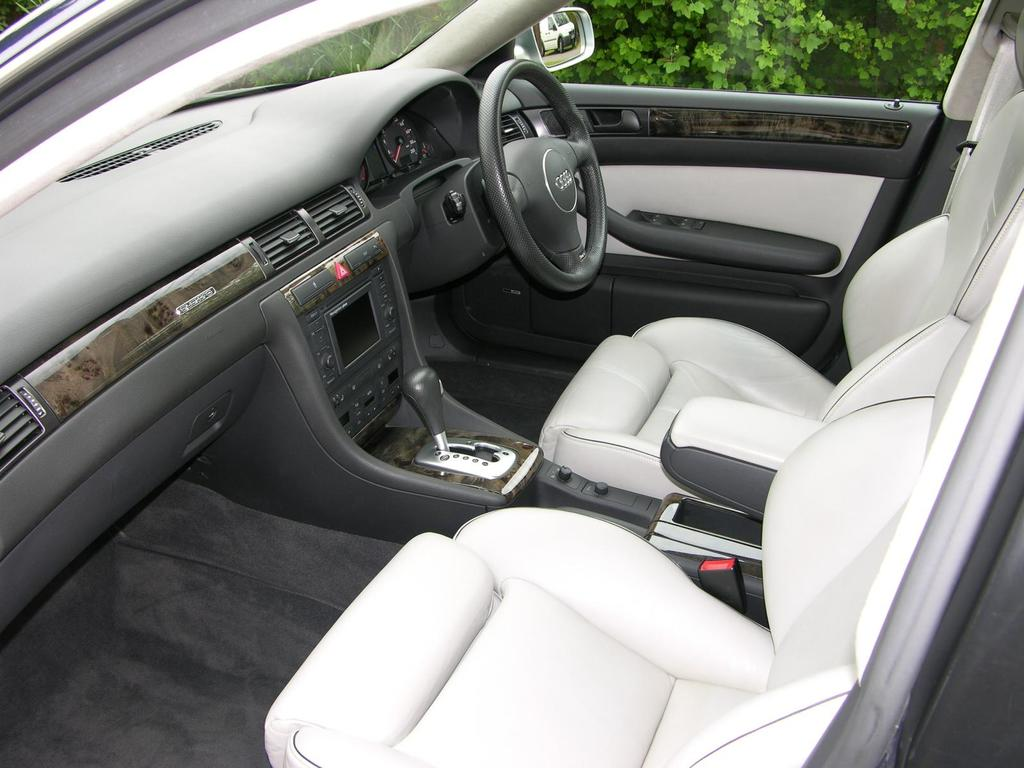Car: (50, 15, 977, 768)
